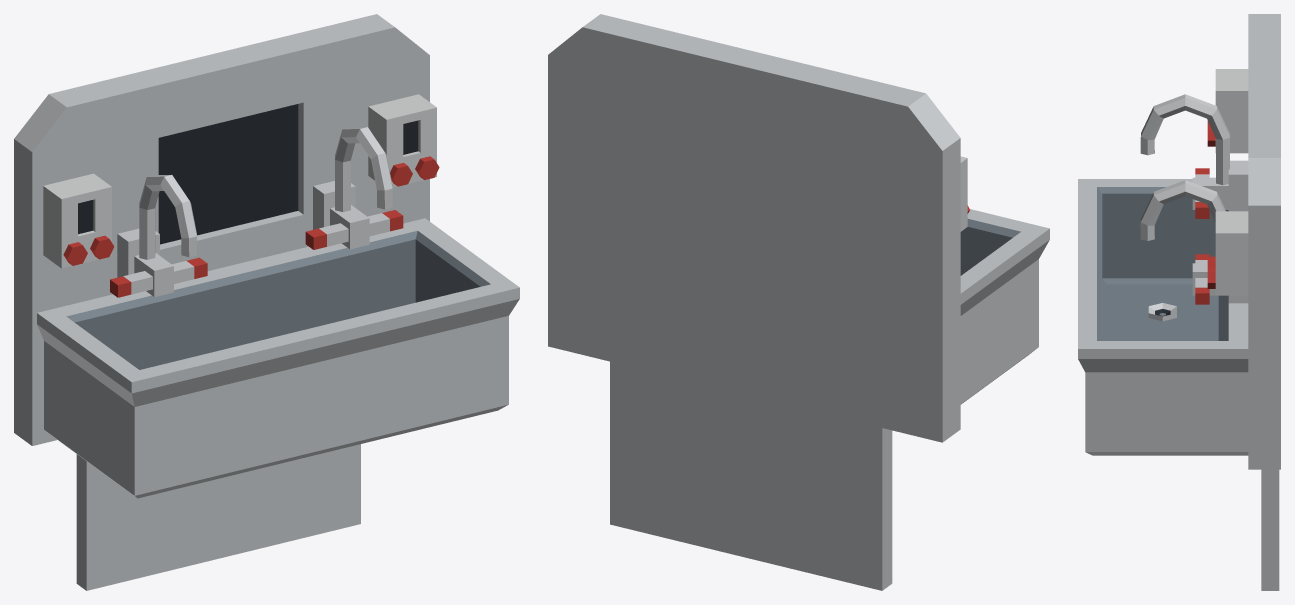
The model's file is scrub-sink-station-3cefec.glb.
3 views of the same model, side by side, from view 1: azimuth 30°, elevation 25°; view 2: azimuth 150°, elevation 25°; view 3: azimuth 270°, elevation 25° (orthographic). The views are drawn at different scales.
Visible parts, largest first — view 1: scrub-sink-station, dispenser-l, dispenser-r, handle-2-l, handle-1-l, handle-2-r, handle-1-r; view 2: scrub-sink-station; view 3: scrub-sink-station, dispenser-r, dispenser-l, handle-2-r.
Part boxes in pixels (x1,y1,x2,y2): scrub-sink-station: (14, 14, 519, 590); dispenser-l: (43, 173, 114, 268); dispenser-r: (368, 94, 439, 187); handle-2-l: (305, 223, 348, 249); handle-1-l: (110, 271, 152, 297); handle-2-r: (368, 210, 403, 236); handle-1-r: (172, 257, 207, 283); scrub-sink-station: (548, 14, 1049, 590); scrub-sink-station: (1078, 14, 1280, 590); dispenser-r: (1207, 211, 1248, 295); dispenser-l: (1207, 69, 1248, 153); handle-2-r: (1195, 278, 1209, 304).
Size of the model in its own units: 1.26 by 1.5 by 0.62.
